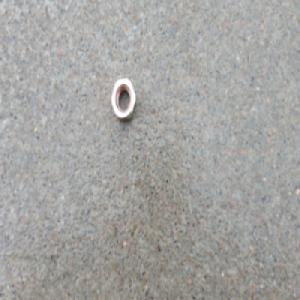Nut: (110, 75, 136, 123)
